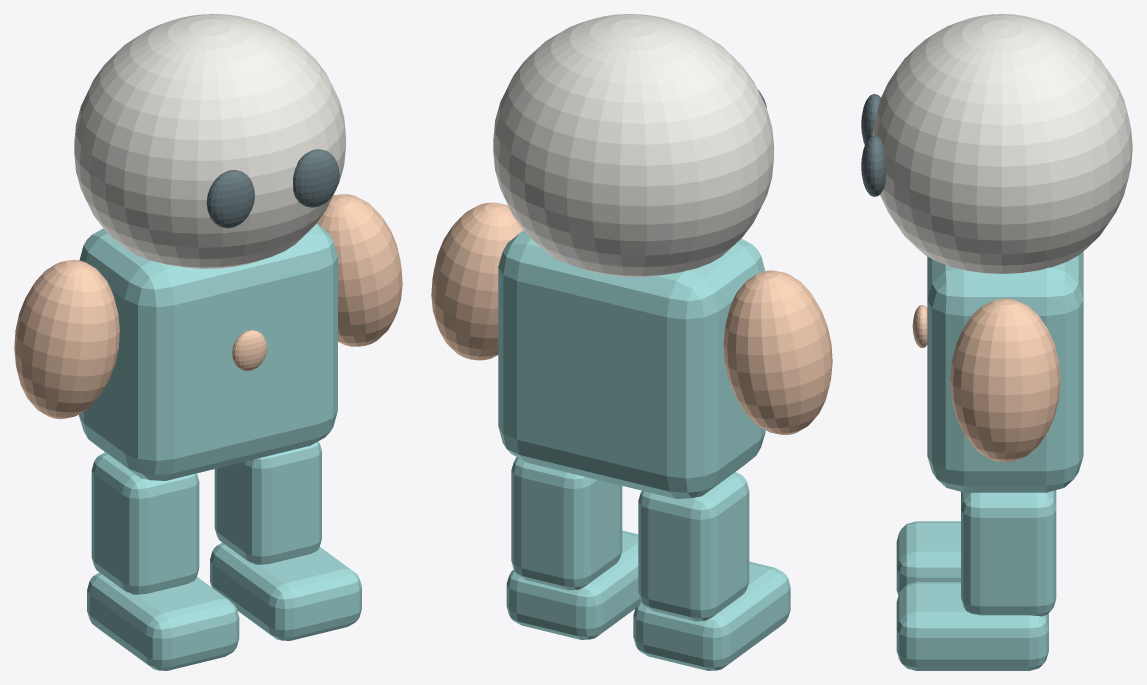
3 renders of one model, left to right at view 1: azimuth 30°, elevation 25°; view 2: azimuth 150°, elevation 25°; view 3: azimuth 270°, elevation 25°, orthographic. The views are drawn at different scales.
Visible parts, largest first — view 1: Large faceted ivory round head, Rounded turquoise torso, Right peach oval arm, Right short leg, Left short leg, Right broad forward foot, Left broad forward foot, Left peach oval arm, Right slate oval eye, Left slate oval eye, Small peach chest button; view 2: Large faceted ivory round head, Rounded turquoise torso, Right peach oval arm, Right short leg, Left short leg, Left peach oval arm, Right broad forward foot, Left broad forward foot; view 3: Large faceted ivory round head, Rounded turquoise torso, Left peach oval arm, Left short leg, Left broad forward foot, Right broad forward foot, Left slate oval eye, Right slate oval eye, Small peach chest button.
Part boxes in pixels (left/top/right/bottom): Large faceted ivory round head: left=74, top=14, right=345, bottom=268; Rounded turquoise torso: left=79, top=223, right=337, bottom=480; Right peach oval arm: left=14, top=260, right=119, bottom=419; Right short leg: left=91, top=452, right=199, bottom=594; Left short leg: left=214, top=441, right=321, bottom=564; Right broad forward foot: left=87, top=572, right=239, bottom=670; Left broad forward foot: left=210, top=542, right=361, bottom=640; Left peach oval arm: left=316, top=194, right=402, bottom=346; Right slate oval eye: left=206, top=170, right=254, bottom=228; Left slate oval eye: left=293, top=149, right=339, bottom=207; Small peach chest button: left=232, top=330, right=266, bottom=371; Large faceted ivory round head: left=493, top=14, right=773, bottom=277; Rounded turquoise torso: left=498, top=230, right=765, bottom=498; Right peach oval arm: left=723, top=270, right=832, bottom=434; Right short leg: left=638, top=472, right=749, bottom=621; Left short leg: left=511, top=457, right=622, bottom=590; Left peach oval arm: left=431, top=202, right=523, bottom=360; Right broad forward foot: left=633, top=561, right=790, bottom=670; Left broad forward foot: left=506, top=530, right=640, bottom=639; Large faceted ivory round head: left=872, top=14, right=1132, bottom=273; Rounded turquoise torso: left=927, top=251, right=1083, bottom=492; Left peach oval arm: left=950, top=298, right=1060, bottom=462; Left short leg: left=961, top=490, right=1056, bottom=616; Left broad forward foot: left=896, top=582, right=1048, bottom=670; Right broad forward foot: left=896, top=521, right=960, bottom=595; Left slate oval eye: left=861, top=135, right=886, bottom=196; Right slate oval eye: left=861, top=94, right=880, bottom=144; Small peach chest button: left=912, top=305, right=927, bottom=347.
Size of the model in its own units: 2.01 by 3.03 by 1.25.
